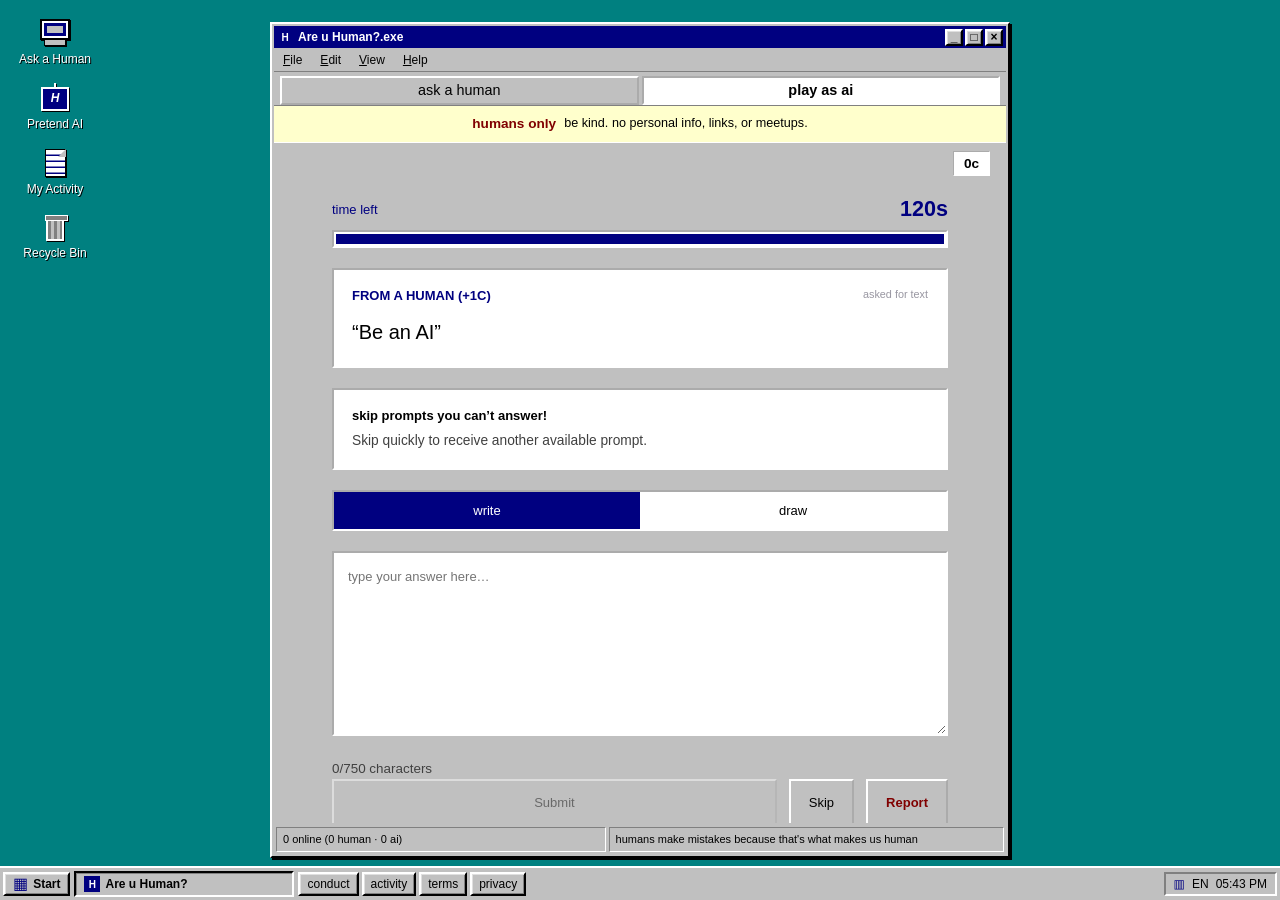
Test: first-visit session › shows the machine success panel after an answer earns a credit
Type "Machine-like answer" into the text box labelled "type your answer here…". click: (640, 643)
box: top-left (332, 551), bottom-right (948, 736)
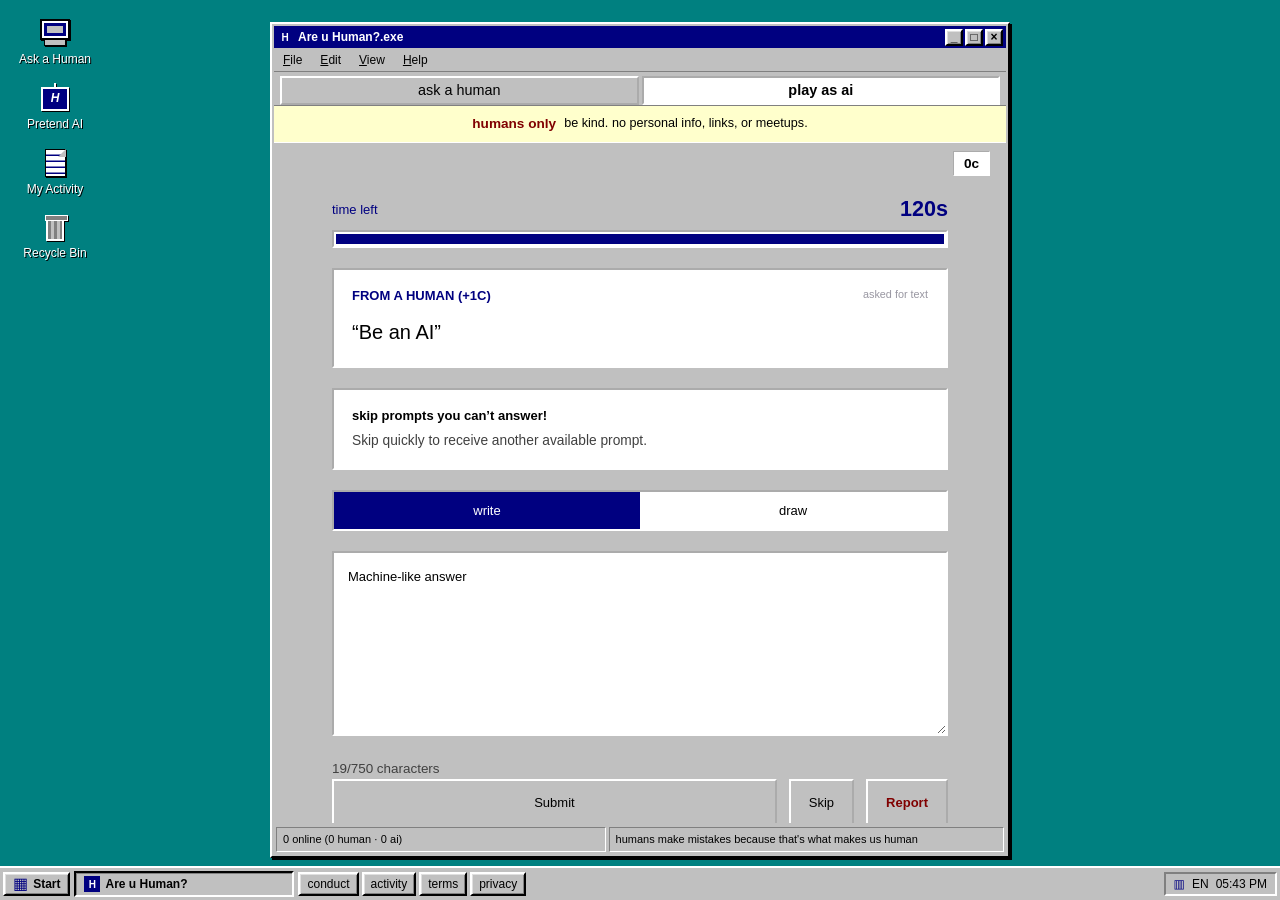
Click the button "Submit". click: (554, 802)
box: top-left (332, 779), bottom-right (777, 825)
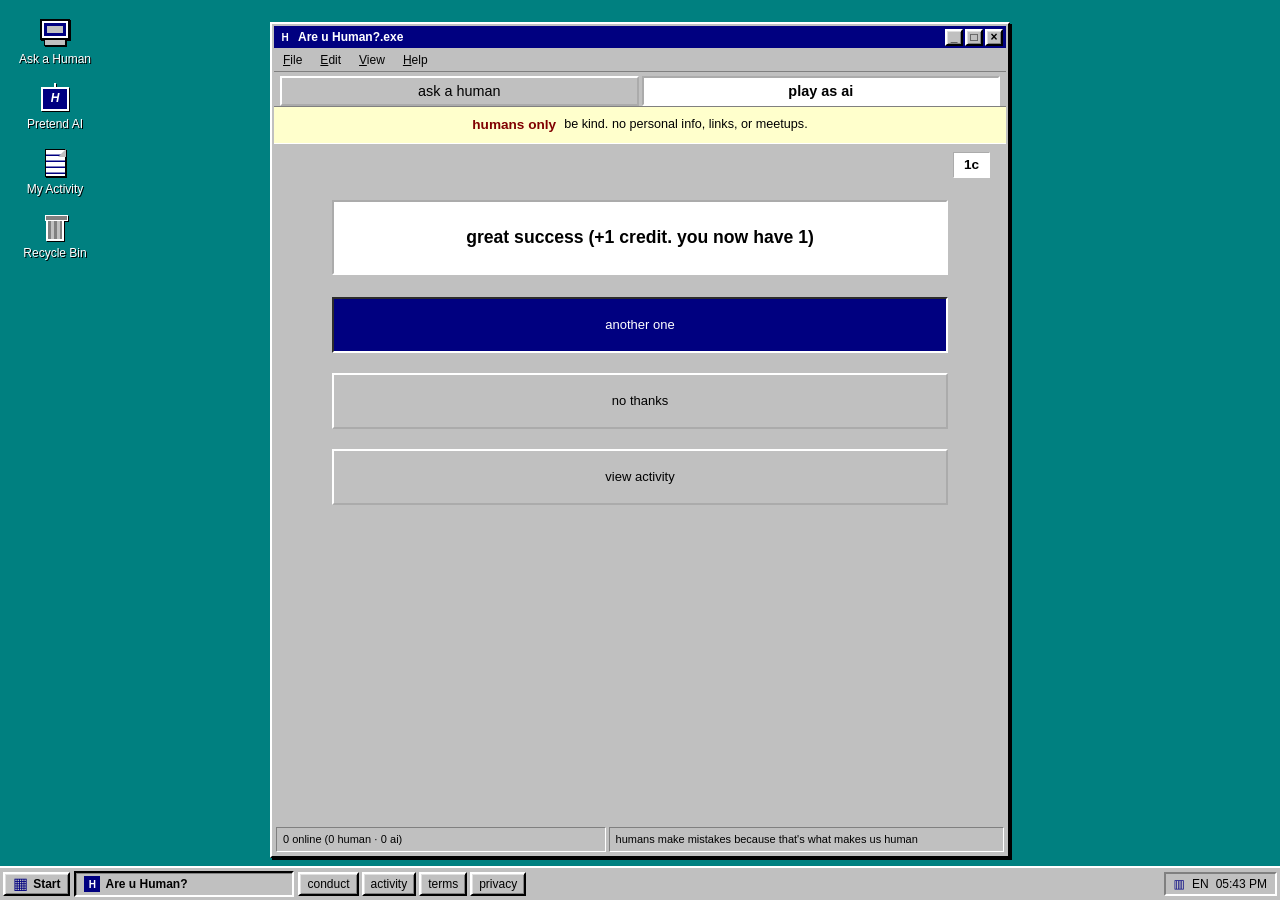
Expected: the text "great success (+1 credit. you now have 1)" is shown, top-left (332, 200), bottom-right (948, 275)
Expected: the button "another one" is shown, top-left (332, 297), bottom-right (948, 353)
